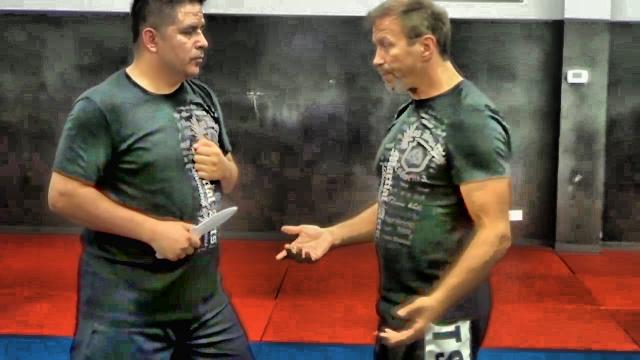knife: (153, 202, 239, 262)
